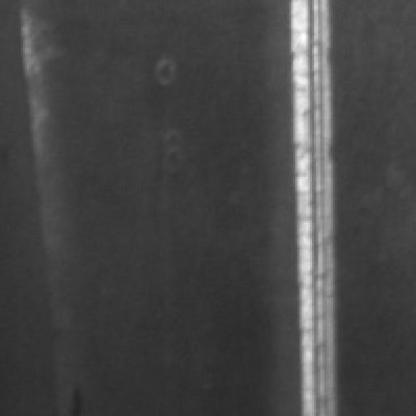scratches: (289, 0, 352, 414), (21, 5, 57, 190)
